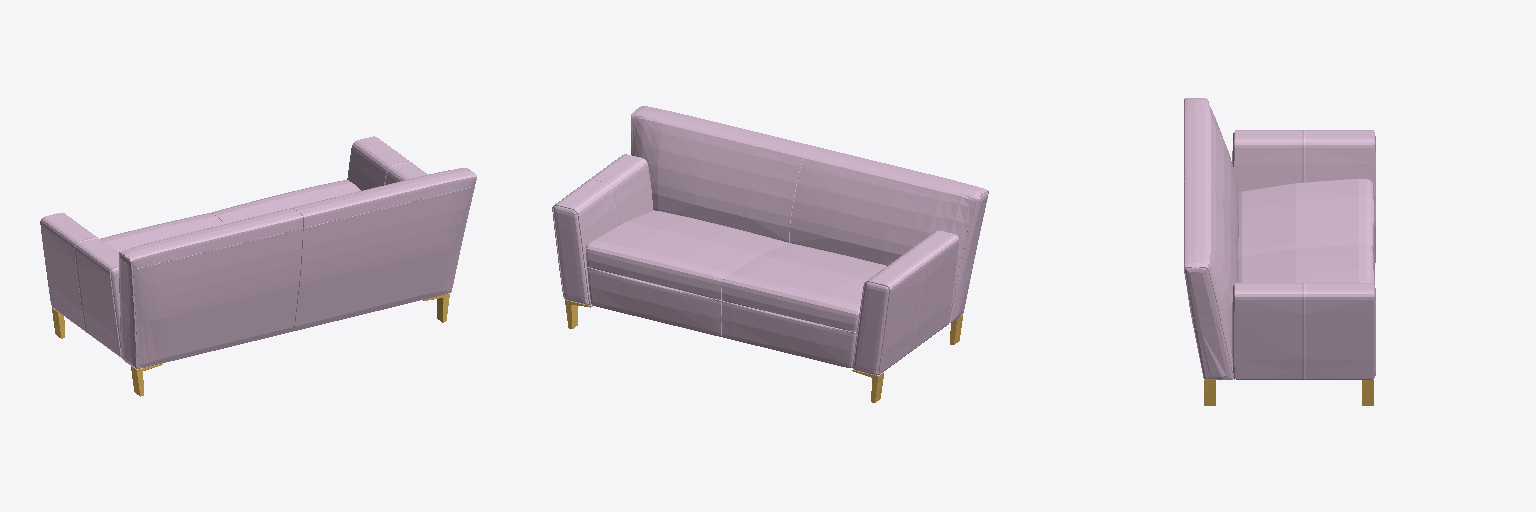
Rendered from Sofa2.obj.
3 renders of one model, left to right at view 1: azimuth 30°, elevation 25°; view 2: azimuth 150°, elevation 25°; view 3: azimuth 270°, elevation 25°, orthographic.
Parts seen in each view (by area): view 1: 1905_2s175; view 2: 1905_2s175; view 3: 1905_2s175.
Boxes of the visible parts, box(x1,y1,x2,y2) form: 1905_2s175: box(40, 136, 476, 396); 1905_2s175: box(552, 106, 988, 402); 1905_2s175: box(1184, 98, 1375, 405).
Size of the model in its own units: 1.77 by 0.7389 by 0.8476.